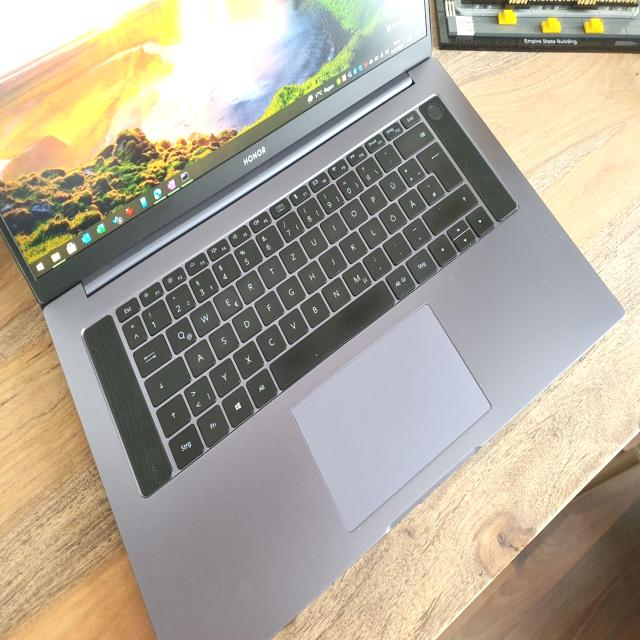0: (335, 168, 363, 198)
1: (141, 297, 171, 332)
2: (164, 281, 196, 315)
3: (187, 266, 218, 299)
4: (211, 251, 241, 283)
5: (232, 237, 262, 269)
6: (254, 223, 284, 254)
7: (276, 209, 304, 239)
8: (296, 194, 324, 226)
9: (316, 181, 344, 211)
a: (184, 338, 216, 373)
accent: (374, 141, 400, 169)
ae: (398, 187, 426, 217)
alt-left: (245, 367, 277, 405)
altgr-right: (385, 265, 415, 297)
b: (299, 292, 329, 326)
c: (255, 324, 286, 359)
caret: (121, 313, 147, 347)
comma: (362, 247, 392, 278)
d: (231, 305, 262, 339)
del: (394, 121, 433, 157)
e: (212, 284, 242, 317)
enter: (415, 140, 461, 190)
f: (254, 289, 284, 323)
g: (276, 275, 306, 307)
h: (297, 259, 327, 291)
hash: (416, 173, 444, 203)
i: (319, 211, 349, 241)
j: (318, 244, 348, 276)
k: (338, 230, 368, 261)
keyboard: (82, 90, 517, 505)
l: (359, 215, 387, 246)
less: (183, 375, 215, 414)
m: (342, 262, 372, 294)
minus: (401, 218, 431, 247)
n: (321, 276, 351, 309)
o: (340, 197, 368, 227)
oe: (379, 200, 407, 232)
p: (359, 184, 387, 213)
plus: (396, 156, 424, 184)
point: (381, 232, 411, 261)
q: (164, 315, 197, 352)
r: (235, 269, 265, 301)
s: (208, 321, 239, 357)
shift-left: (157, 393, 191, 435)
shift-lock: (144, 355, 190, 405)
shift-right: (422, 183, 478, 236)
space: (270, 279, 395, 389)
ss: (355, 154, 383, 183)
strg-left: (168, 424, 204, 466)
strg-right: (405, 249, 437, 281)
t: (257, 254, 287, 286)
tab: (132, 333, 172, 377)
u: (299, 226, 328, 256)
ue: (379, 170, 407, 198)
v: (278, 308, 309, 341)
w: (189, 299, 219, 333)
x: (232, 341, 263, 377)
y: (208, 357, 240, 395)
z: (278, 240, 308, 271)
